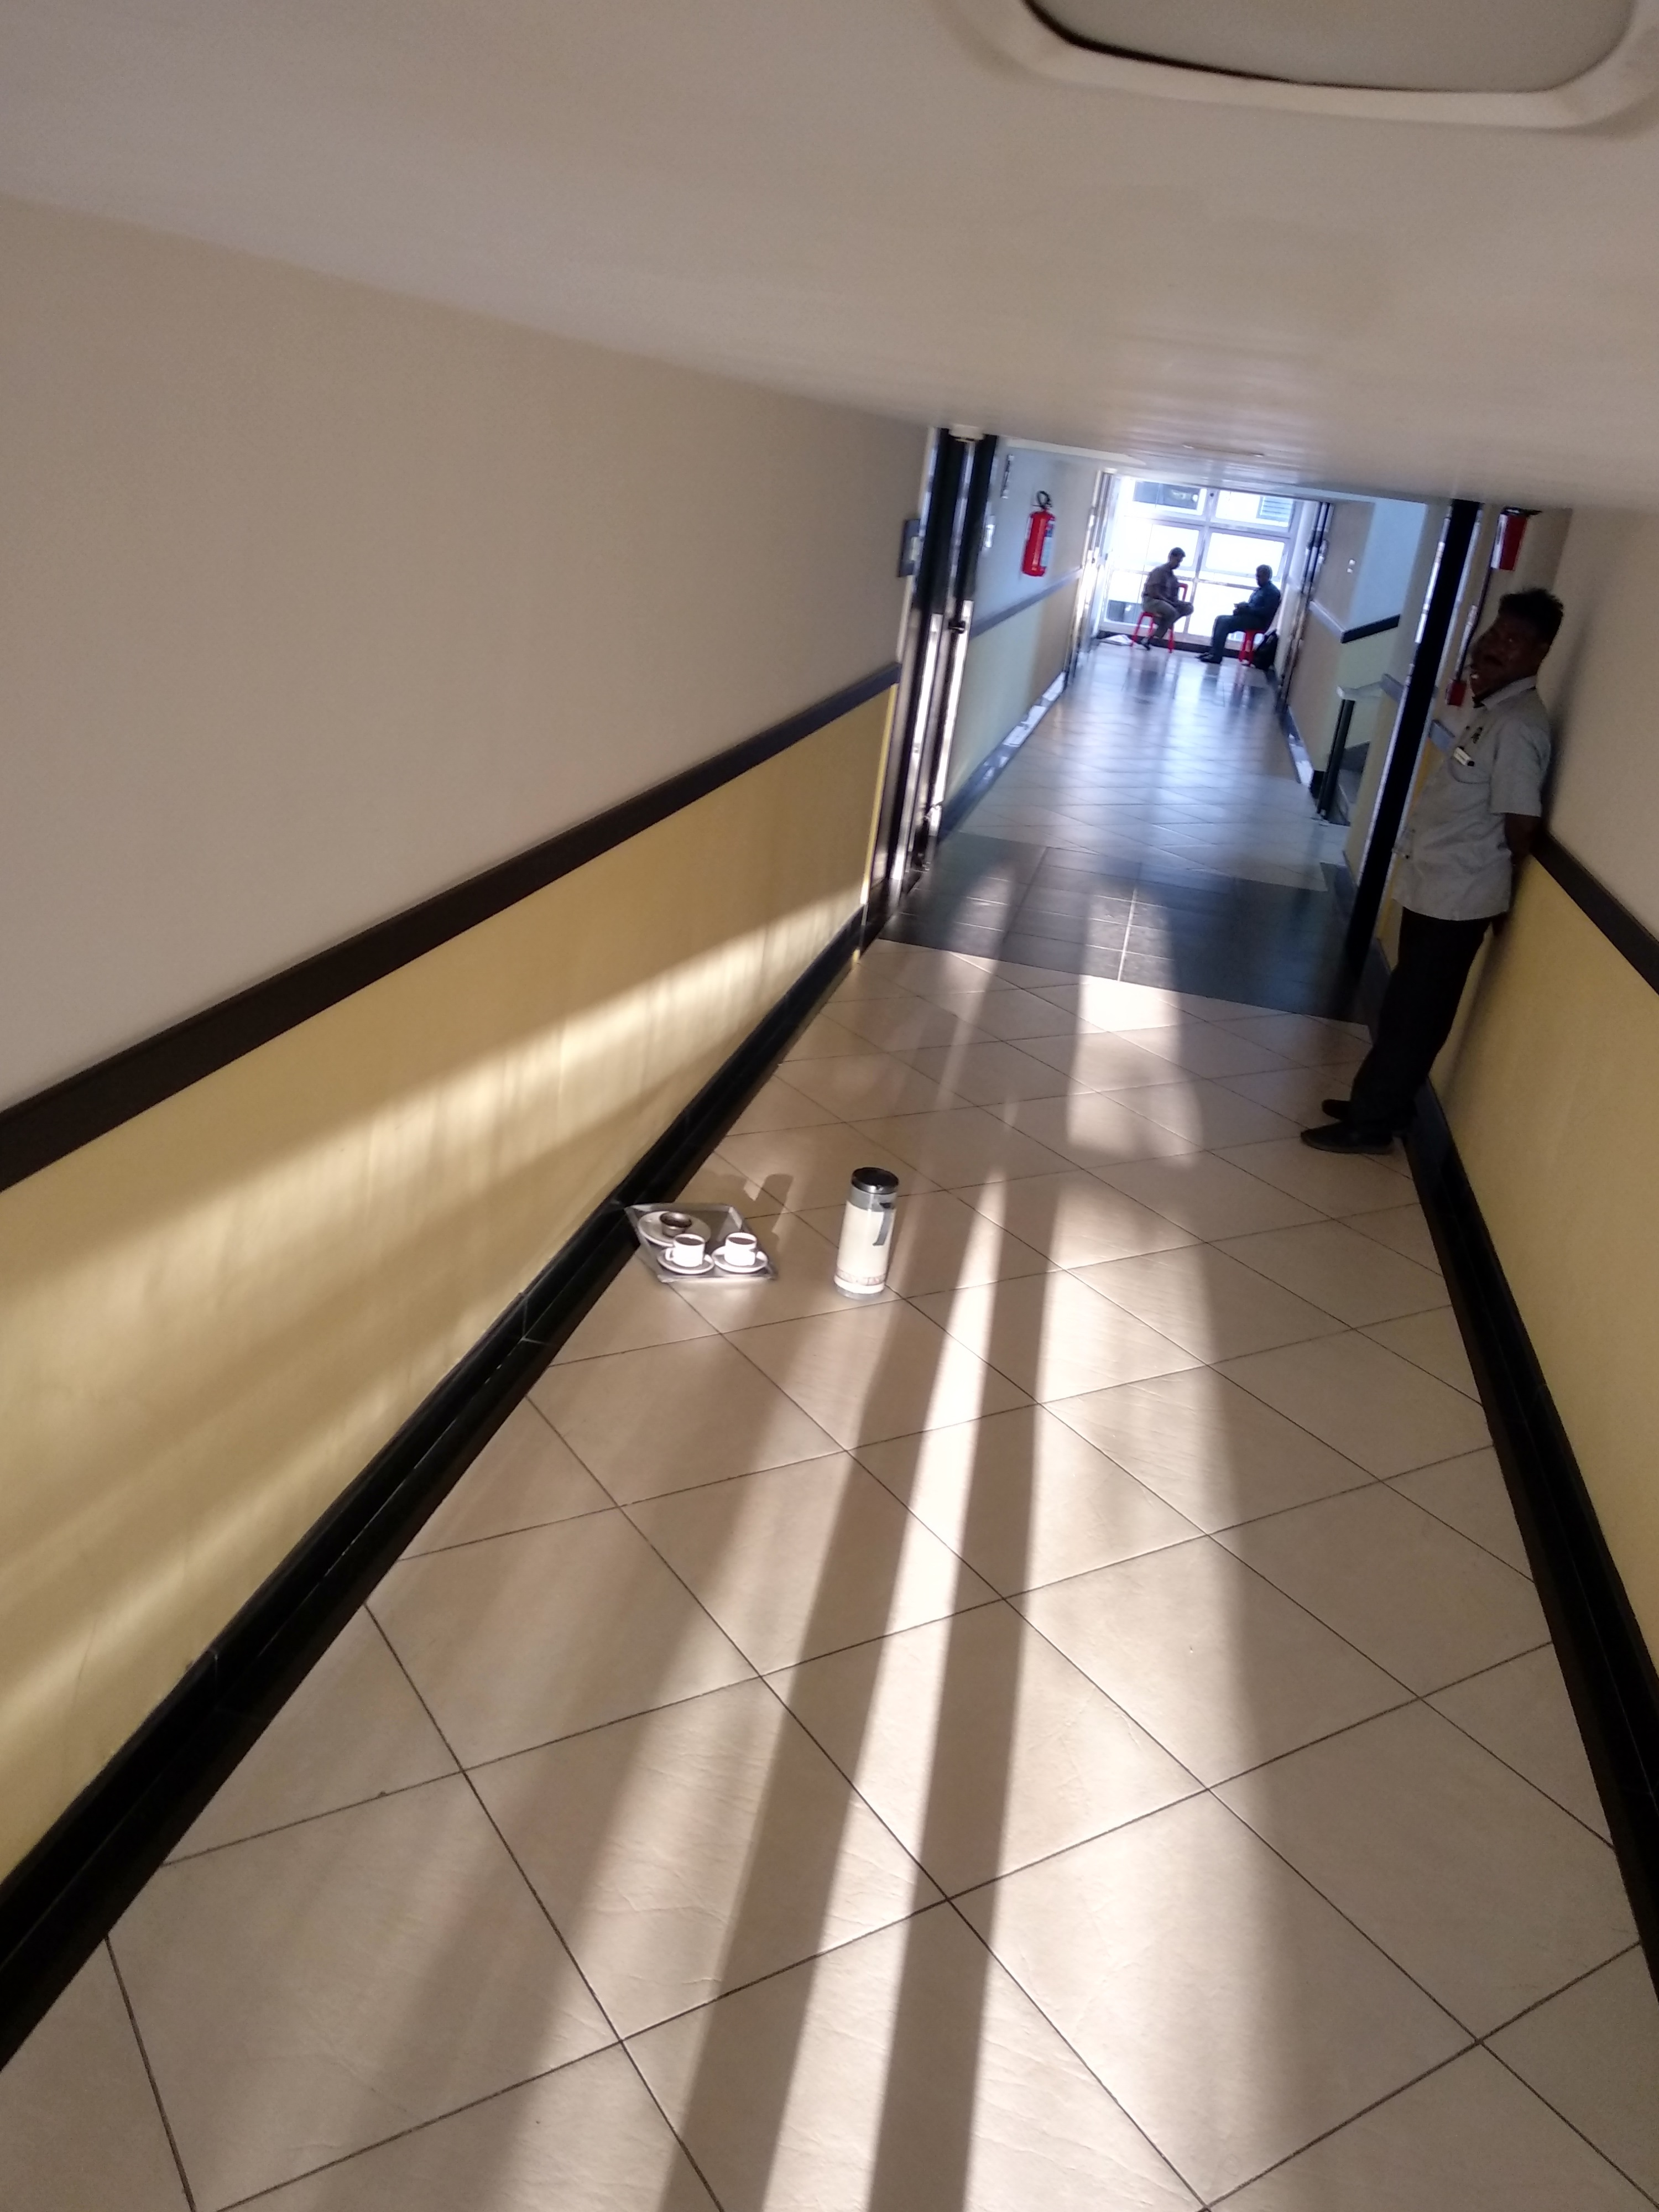CUP: (667, 1230, 709, 1273), (723, 1230, 760, 1268), (659, 1212, 694, 1231)
JUG: (833, 1167, 904, 1305)
